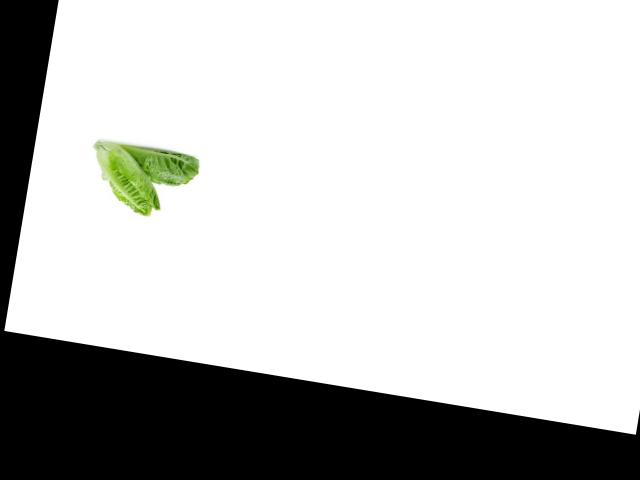lettuce: (111, 136, 209, 193)
